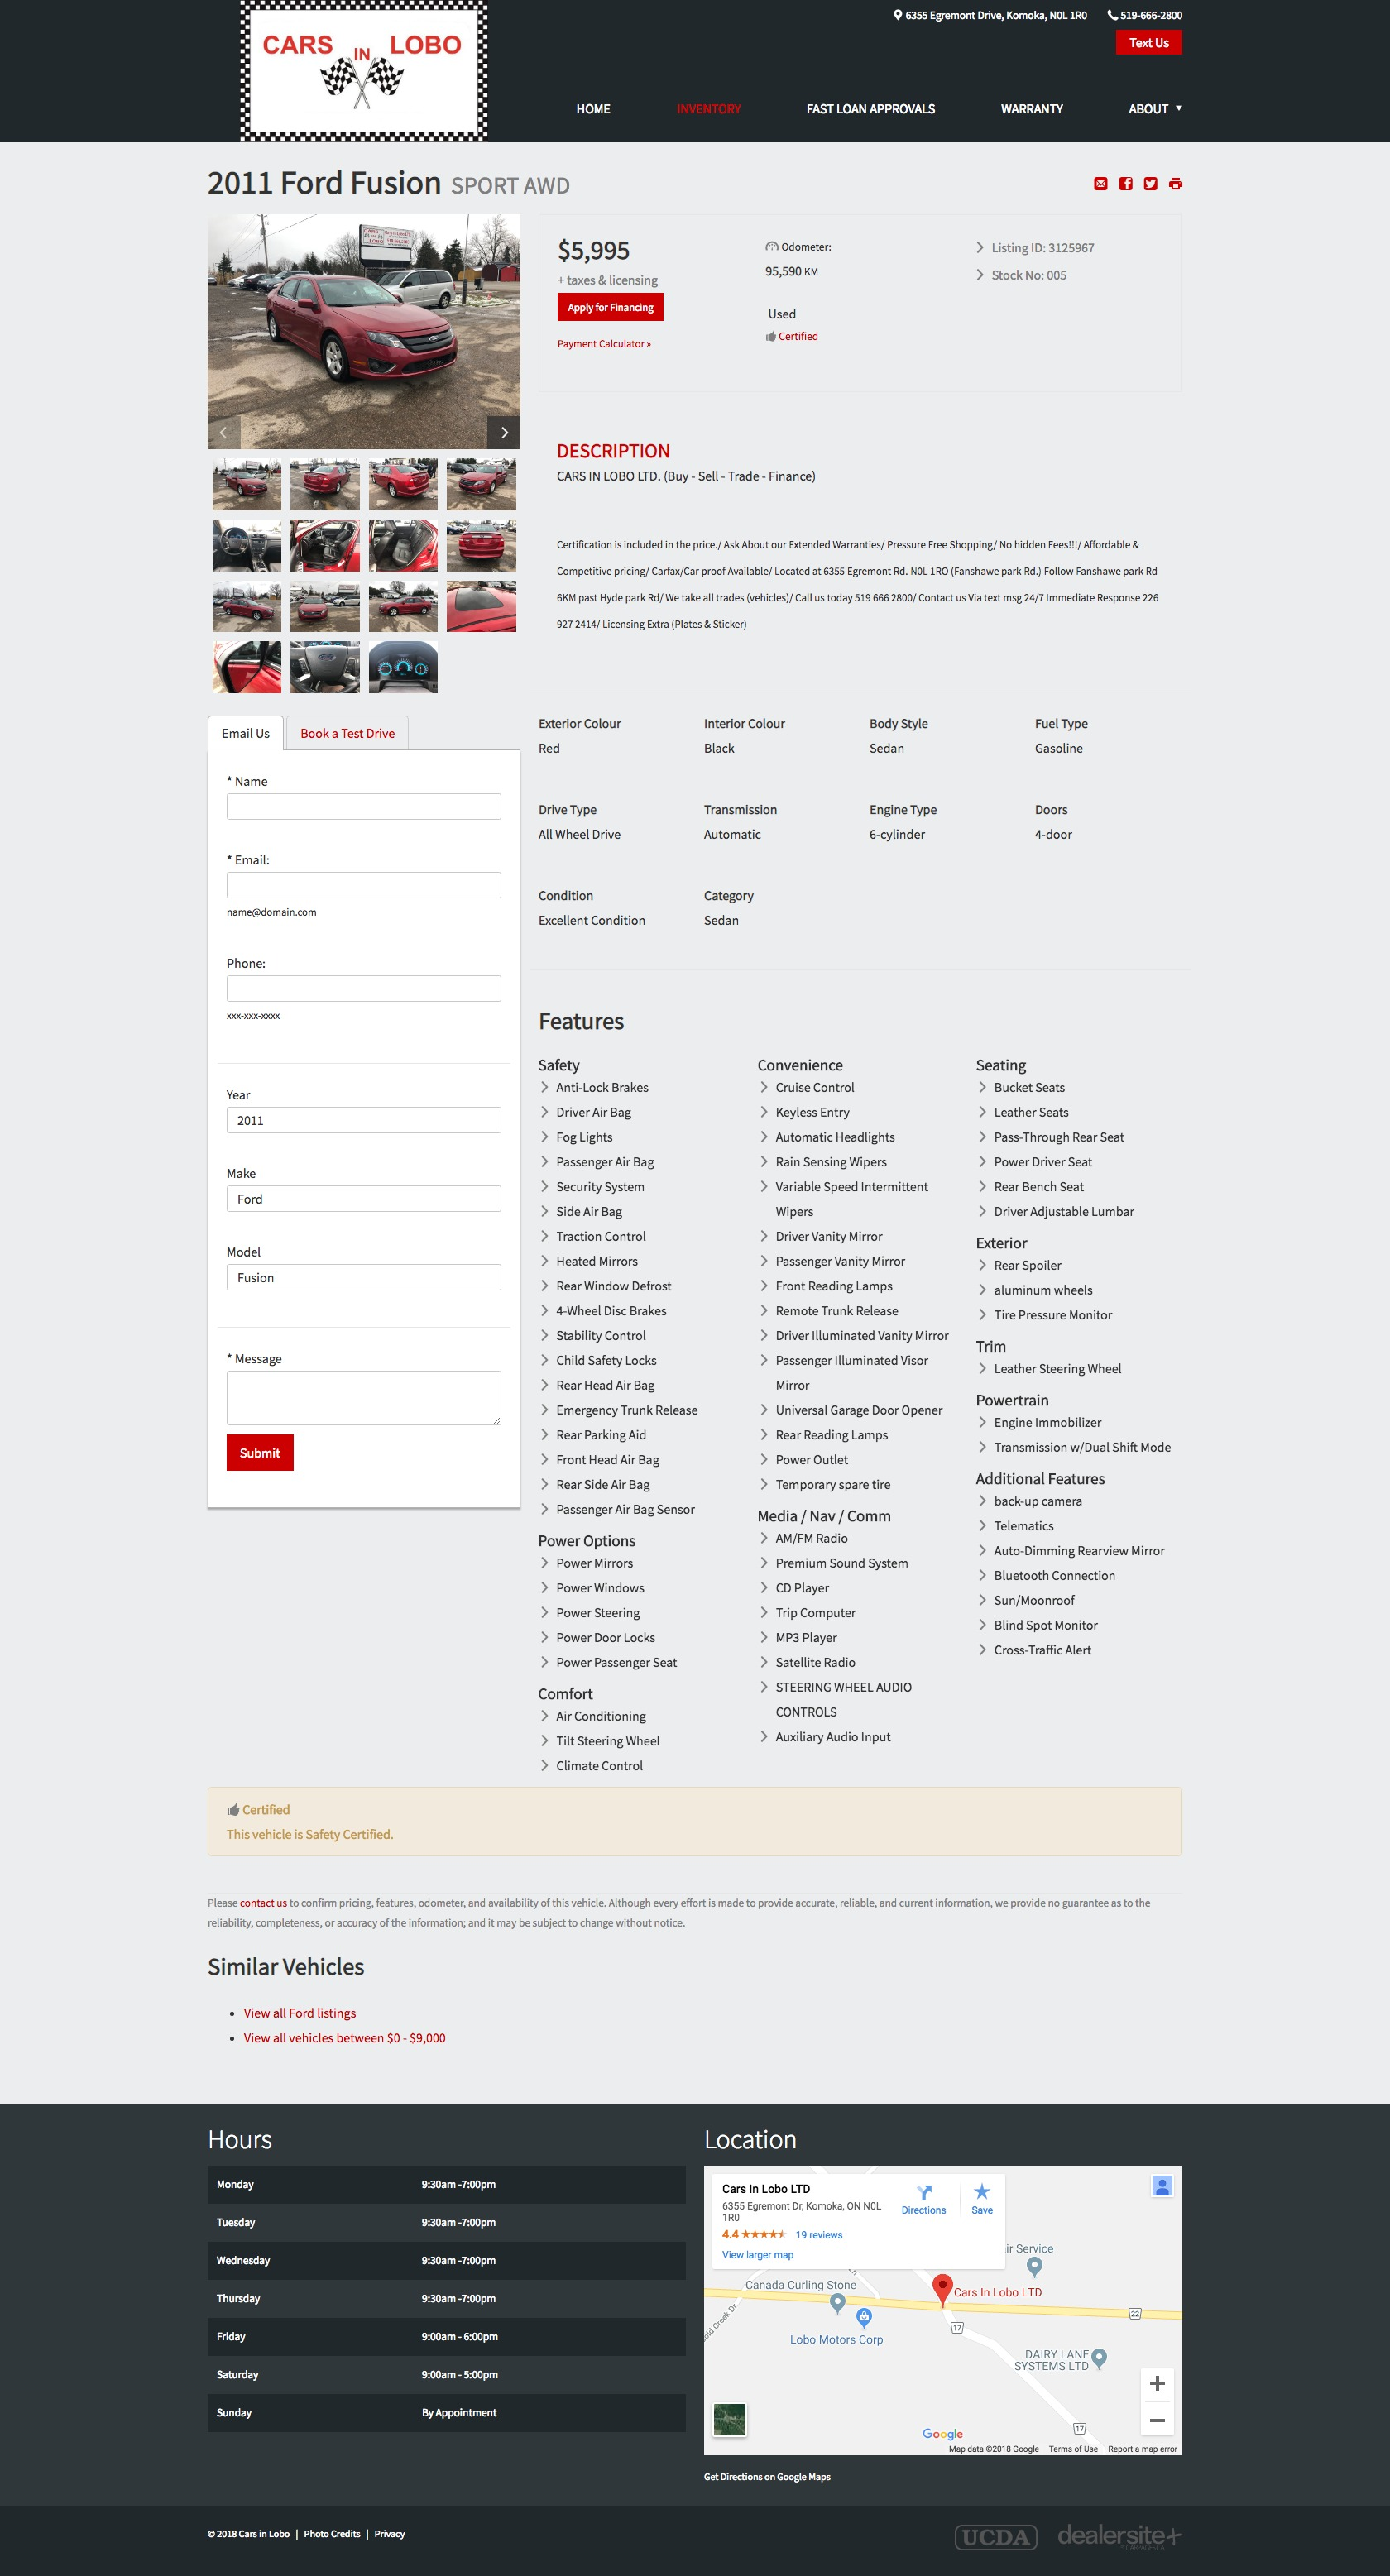car: (486, 416, 522, 452)
